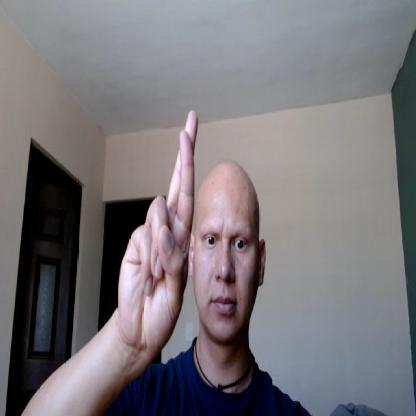R: (120, 109, 199, 345)
